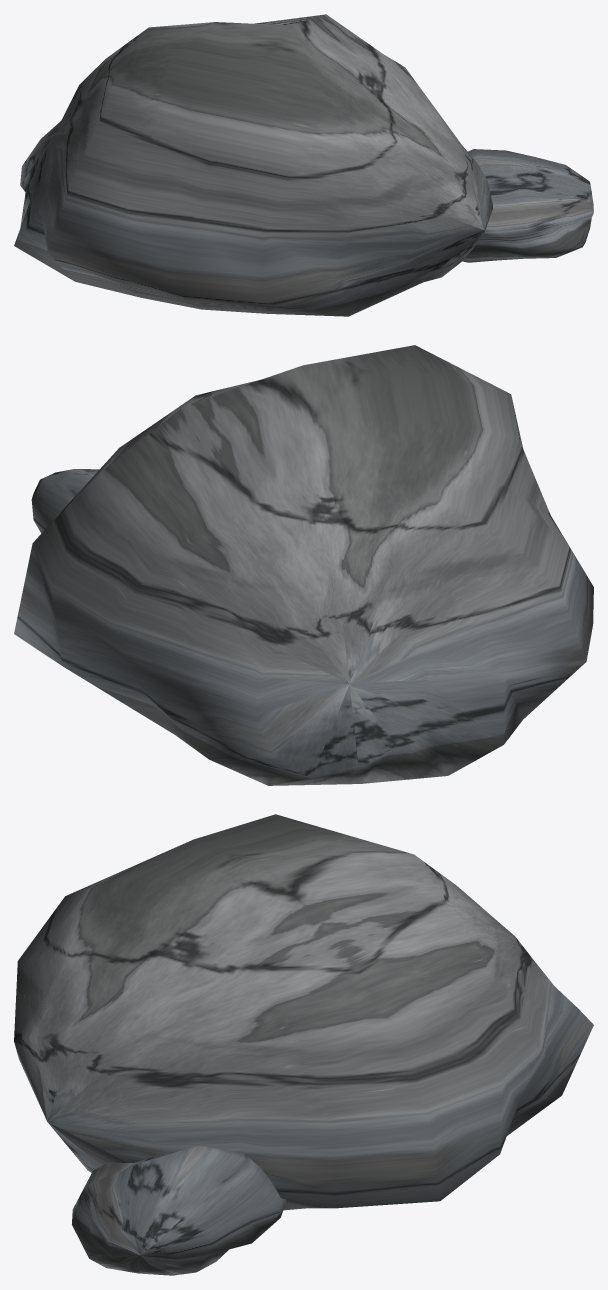
The model's file is rock_stone_l0.gltf.
The picture shows the model from 3 angles, top to bottom: view 1: azimuth 30°, elevation 25°; view 2: azimuth 150°, elevation 25°; view 3: azimuth 270°, elevation 25°; orthographic projection. The views are drawn at different scales.
Parts seen in each view (by area): view 1: rock_stone_l0; view 2: rock_stone_l0; view 3: rock_stone_l0.
Boxes of the visible parts, left/top/right/bottom form: rock_stone_l0: left=14, top=14, right=593, bottom=316; rock_stone_l0: left=14, top=345, right=593, bottom=785; rock_stone_l0: left=14, top=814, right=593, bottom=1275.
Bounding box in the file's own units: 1.3 × 0.5724 × 1.12.
Materials: 1 (1 with a texture image).
